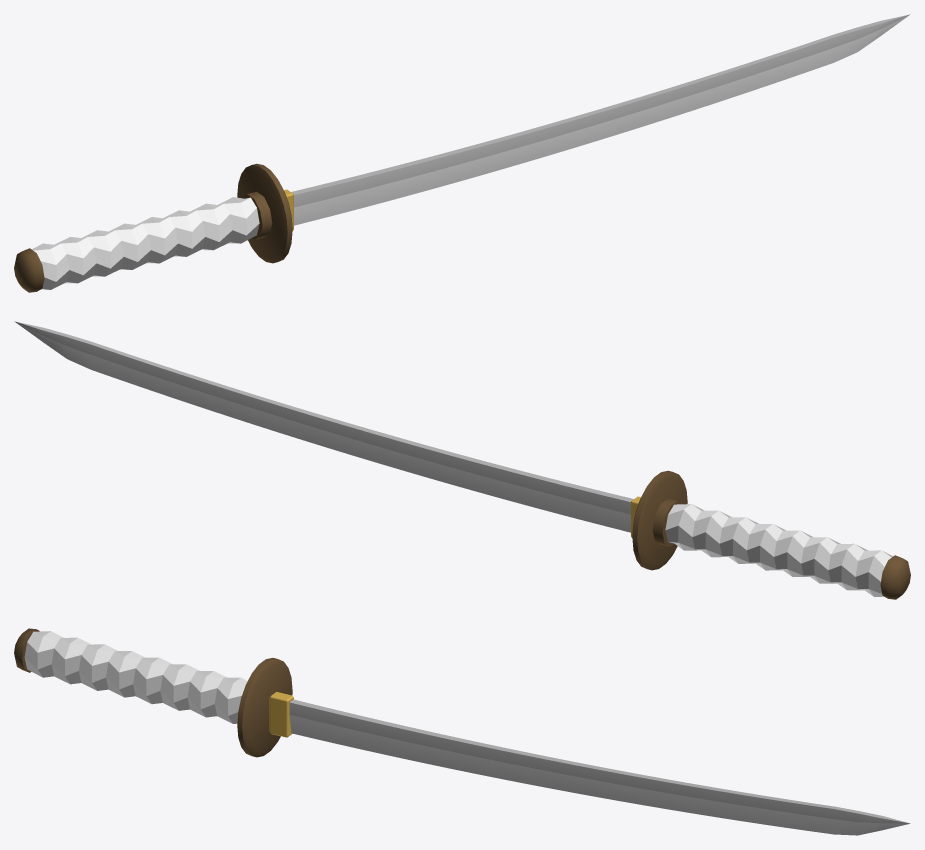
File: knife_katana.glb
The picture shows the model from 3 angles, top to bottom: view 1: azimuth 30°, elevation 25°; view 2: azimuth 150°, elevation 25°; view 3: azimuth 330°, elevation 25°; orthographic projection.
Visible parts, largest first — view 1: Blade, Handle, Guard; view 2: Blade, Handle, Guard; view 3: Blade, Handle, Guard, Habaki.
Part boxes in pixels (x1,y1,x2,y2): Blade: [291, 14, 910, 225]; Handle: [32, 197, 259, 289]; Guard: [14, 163, 292, 292]; Blade: [14, 321, 633, 532]; Handle: [665, 504, 892, 596]; Guard: [632, 470, 910, 599]; Blade: [289, 699, 910, 835]; Handle: [24, 631, 247, 723]; Guard: [14, 628, 292, 757]; Habaki: [269, 692, 293, 737].
Bounding box in the file's own units: 0.918 × 0.0891 × 0.09.
